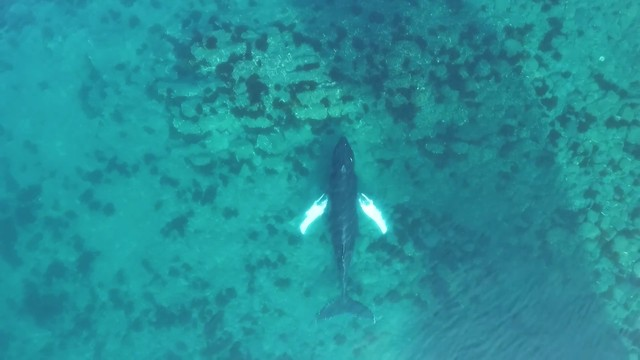whale: (292, 129, 397, 331)
